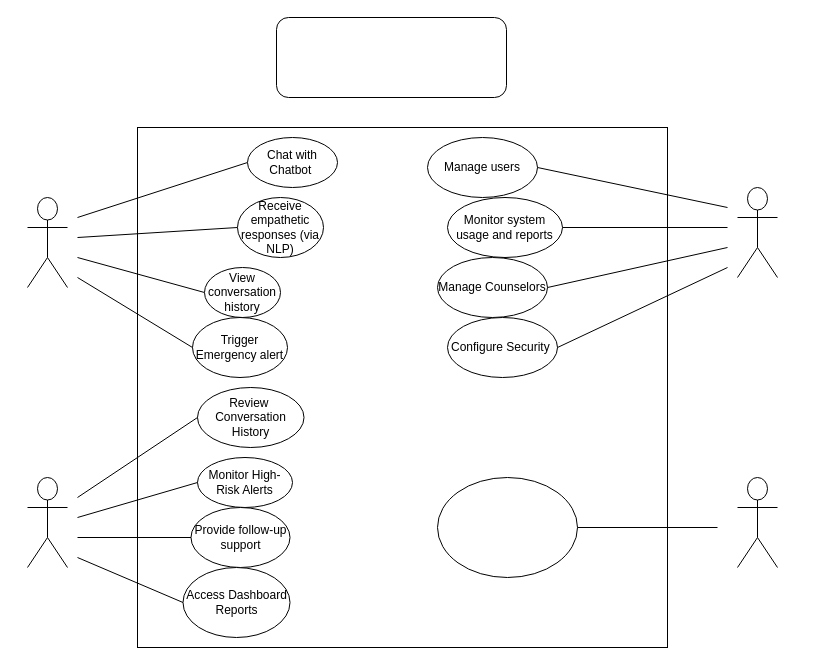
The diagram is 830 pixels wide and 665 high, and some of its shapes have lost their labels. The centre of each missing label's shape, as x and y in pixels:
"Administrators" belongs at point 757,232.
"Counselors" belongs at point 47,522.
"Emergency Services" belongs at point 757,522.
"Mental Health Support System" belongs at point 391,57.
"Receive alerts for high-risk users" belongs at point 507,527.
"User" belongs at point 47,242.
